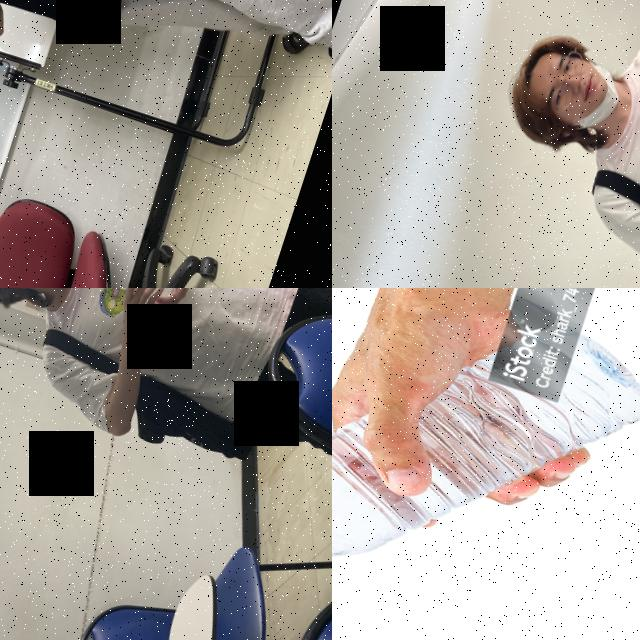bottle: (332, 288, 640, 640)
